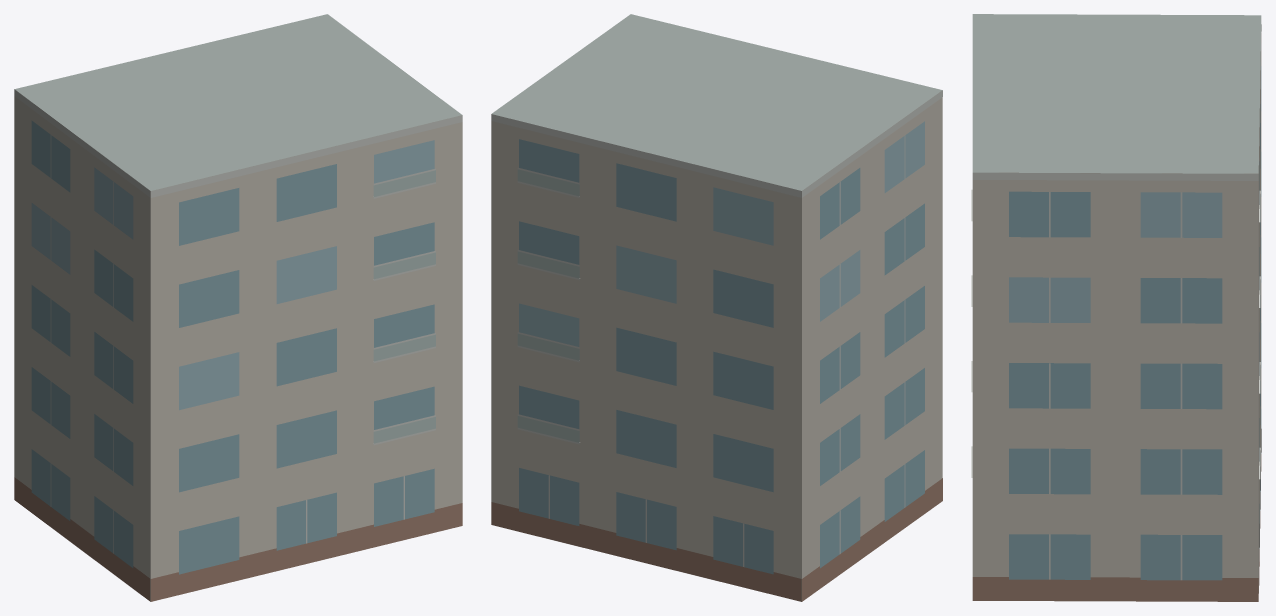
Rendered from survey-upis-32465924.glb.
3 renders of one model, left to right at view 1: azimuth 30°, elevation 25°; view 2: azimuth 150°, elevation 25°; view 3: azimuth 270°, elevation 25°, orthographic. The views are drawn at different scales.
Visible parts, largest first — view 1: survey-upis-32465924.tmp; view 2: survey-upis-32465924.tmp; view 3: survey-upis-32465924.tmp.
Boxes of the visible parts, box(x1,y1,x2,y2) form: survey-upis-32465924.tmp: box(14, 14, 462, 601); survey-upis-32465924.tmp: box(491, 14, 942, 601); survey-upis-32465924.tmp: box(971, 14, 1261, 601).
Size of the model in its own units: 11.53 by 14.4 by 8.85.
